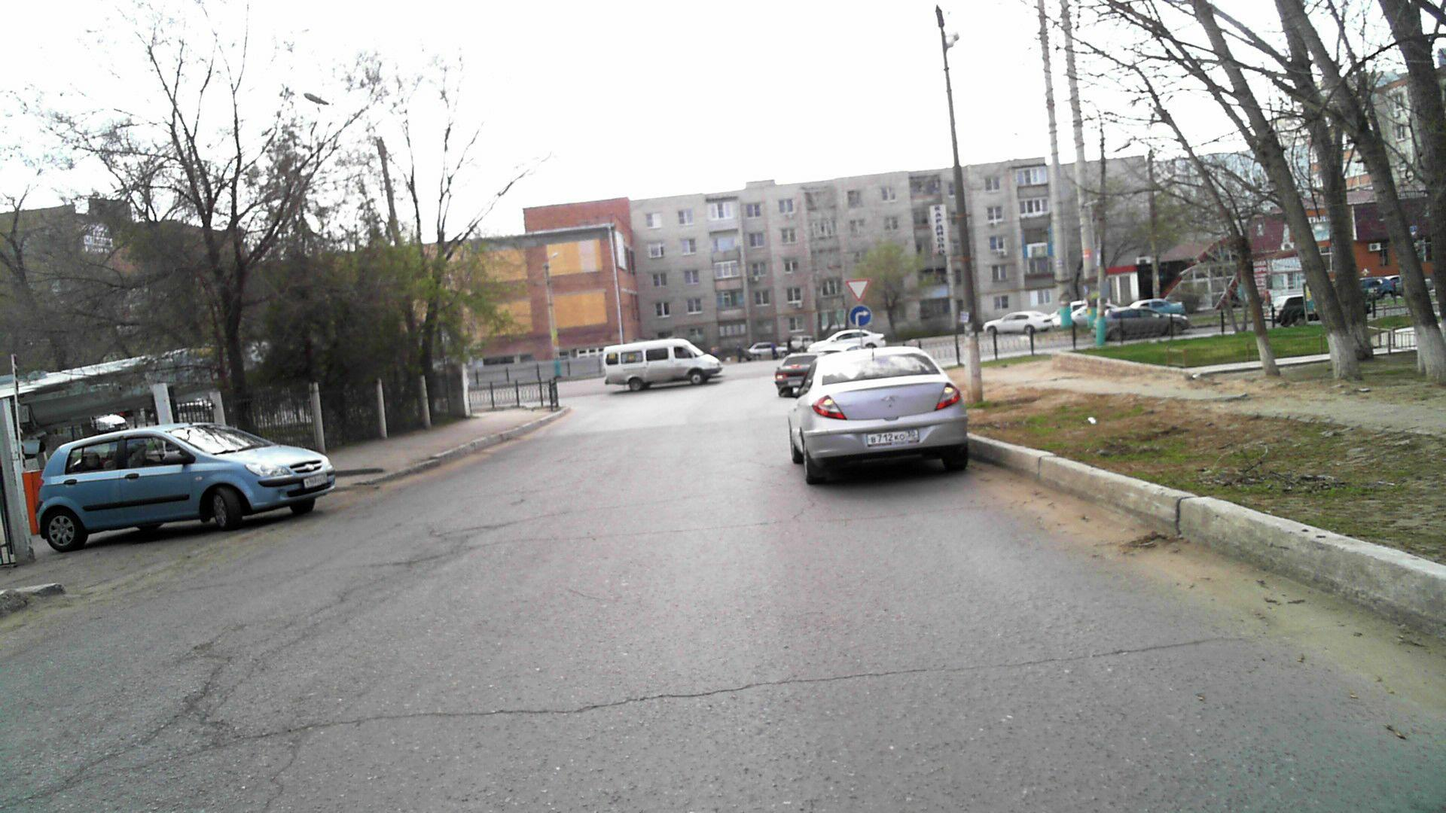road_sign: (845, 277, 872, 302), (847, 304, 872, 327)
